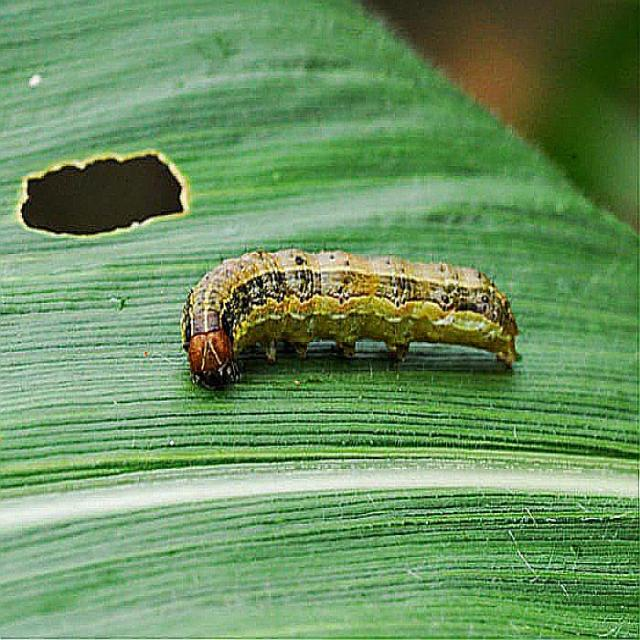Armyworm: (162, 234, 535, 446)
Armyworm_damage: (1, 88, 207, 281)
